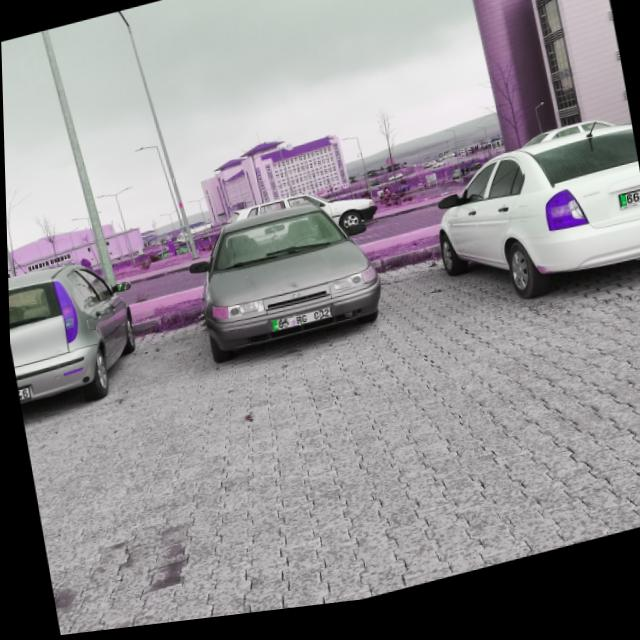license_plate: (269, 314, 330, 339), (616, 205, 640, 223)
